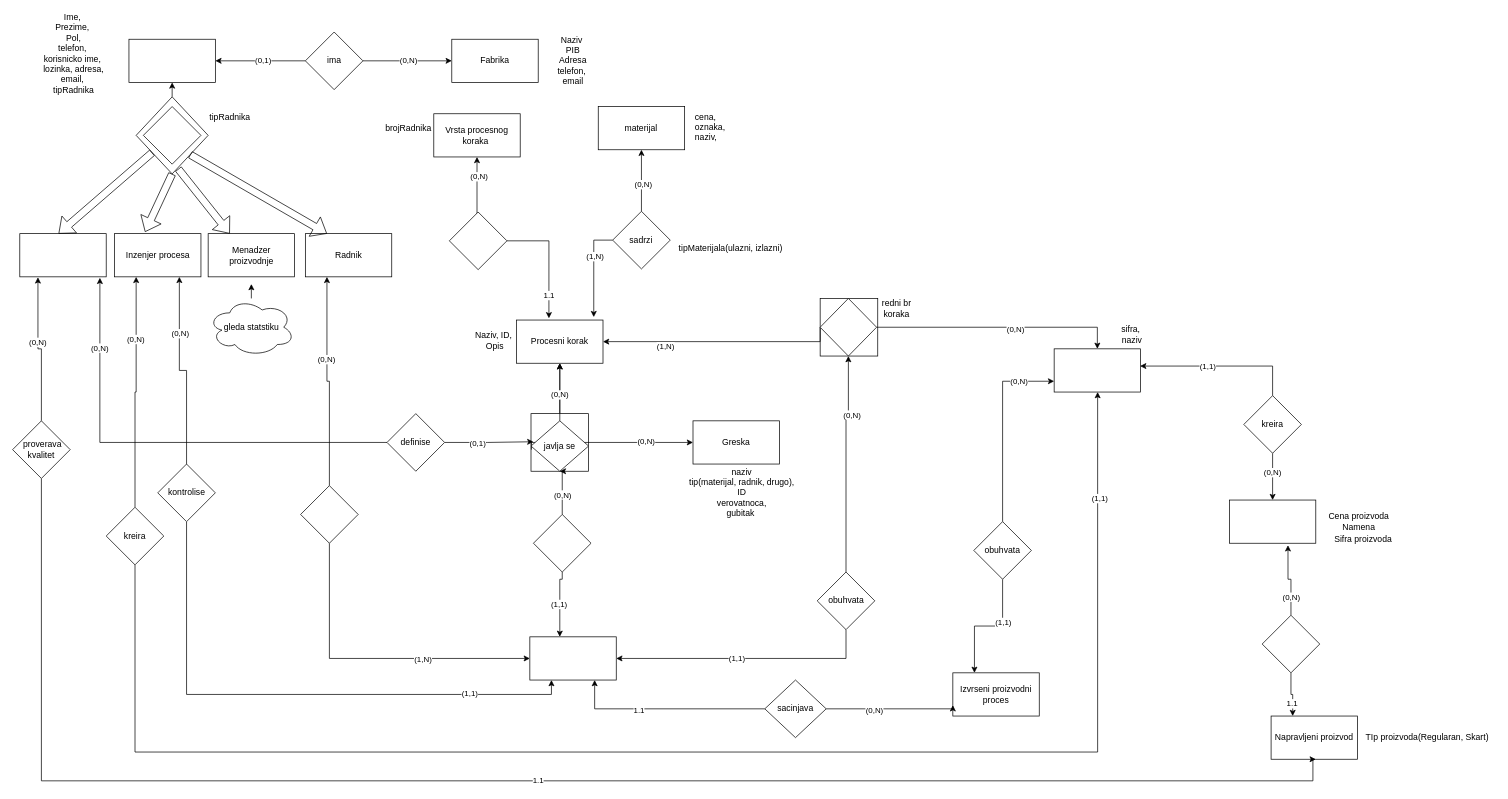
The diagram is 1508 pixels wide and 799 high, and some of its shapes have lost their labels. The centre of each missing label's shape, as x and y in pixels:
"cini" belongs at point 848,327.
"Inzenjer kvaliteta" belongs at point 62,255.
"IS-a" belongs at point 172,135.
"Izvrsen procesni korak" belongs at point 572,658.
"karakterise" belongs at point 478,240.
"pojavila se" belongs at point 562,543.
"predstavlja" belongs at point 1290,644.
"Proizvod" belongs at point 1272,521.
"proizvodni proces" belongs at point 1097,370.
"ucestvuje" belongs at point 329,514.
"Zaposleni" belongs at point 171,60.
